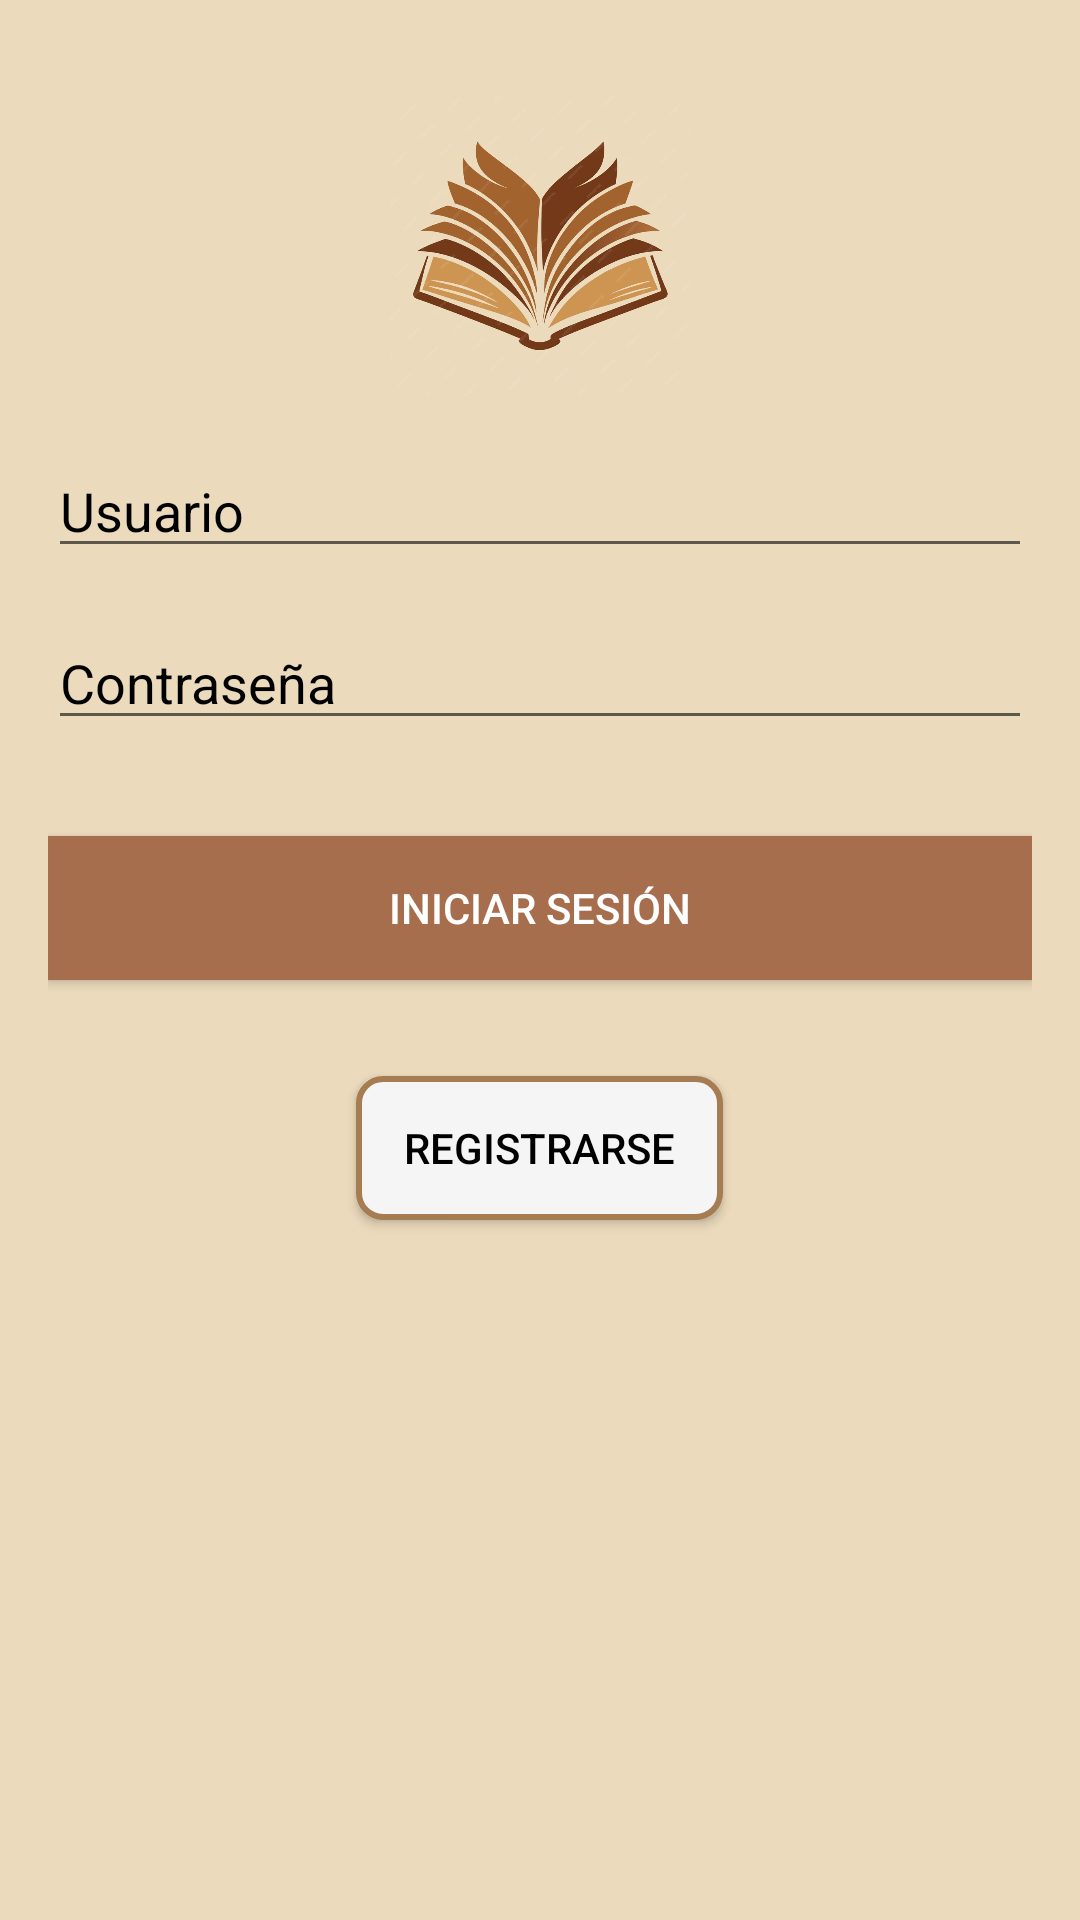

Point at icon controls on the screen. Image size 1080x1920, points as (x=x, y=y).
libro: (x=540, y=245)
